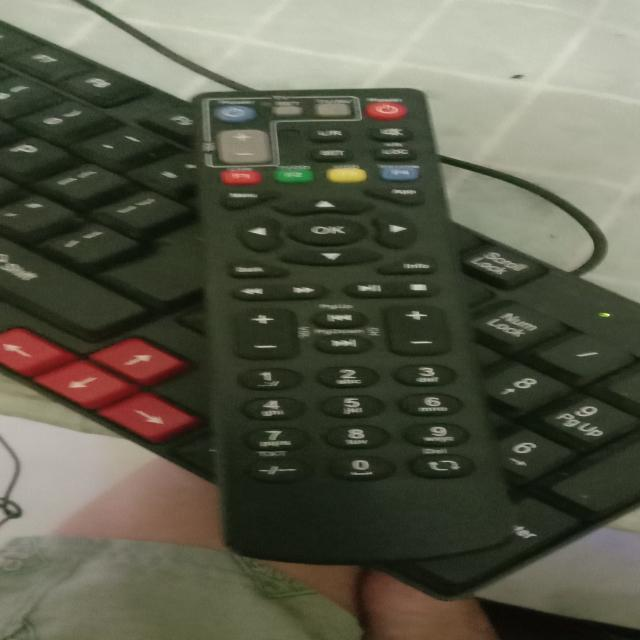remote: (193, 86, 492, 569)
